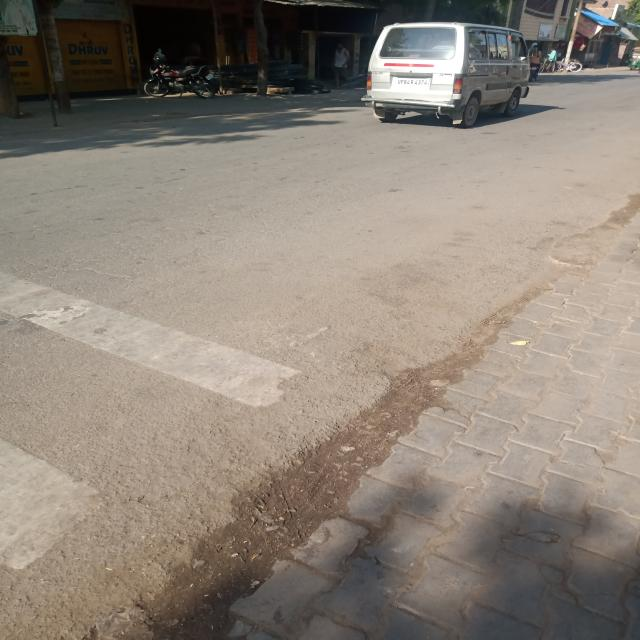Car: (362, 22, 533, 128)
